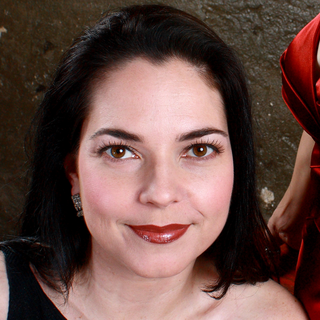eye: (95, 140, 143, 164), (178, 139, 223, 164)
